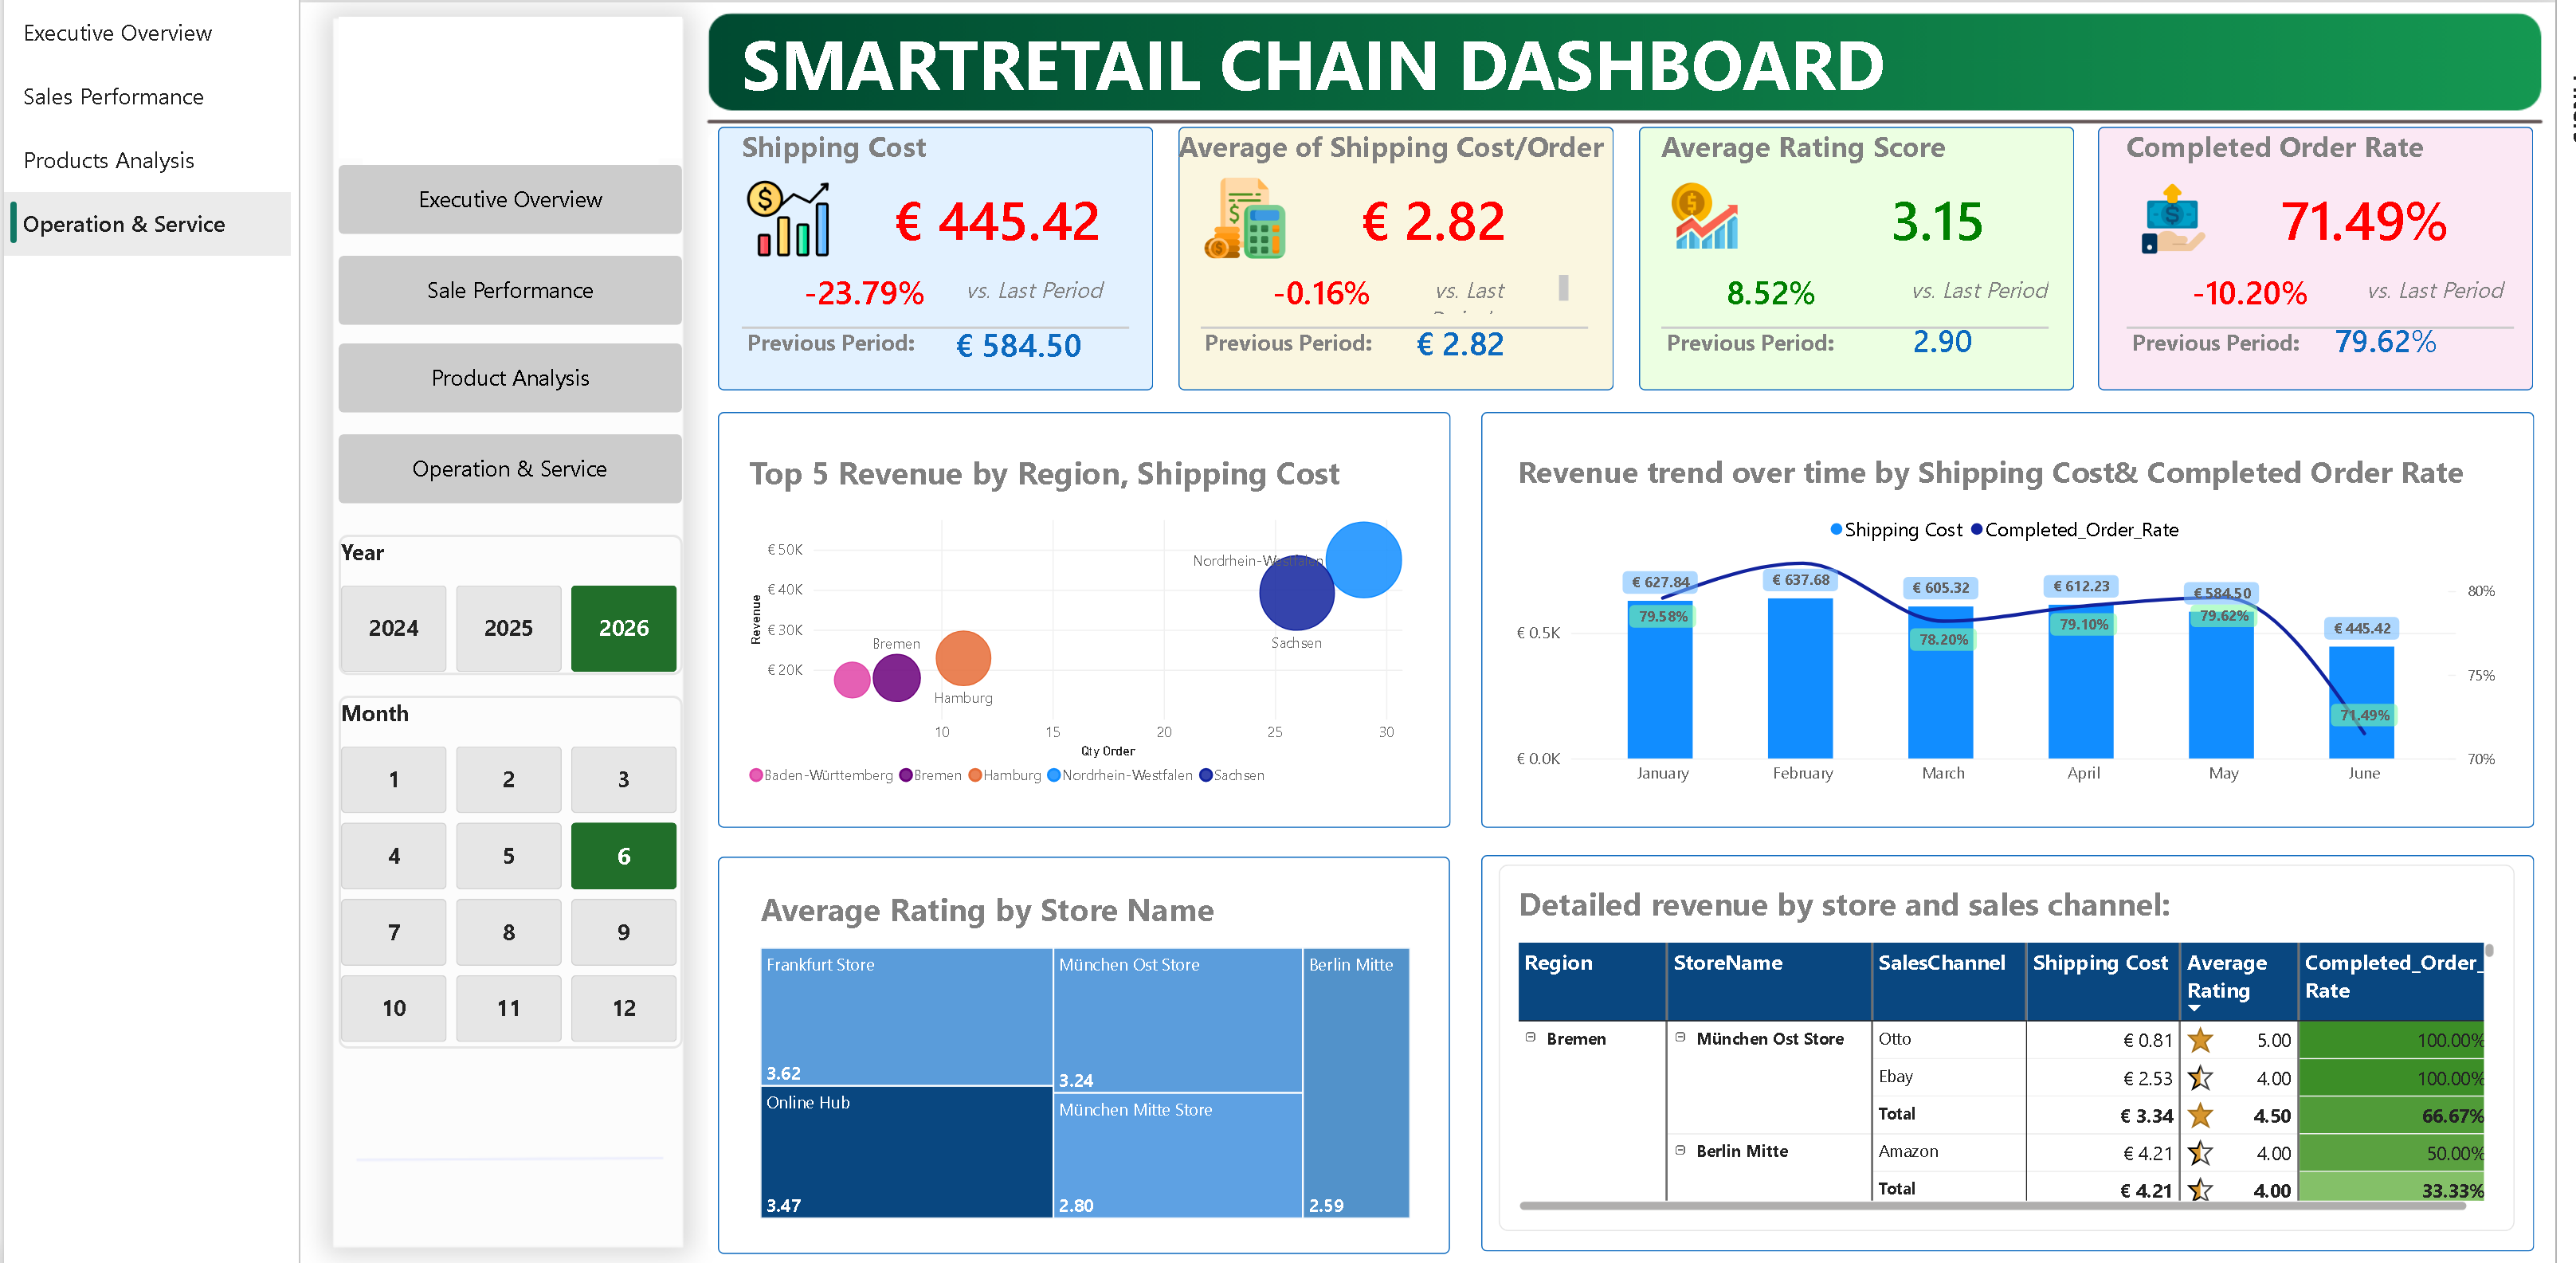

The page's visual inventory and layout, read from the dashboard file:
{"tool":"powerbi","page":{"name":"Operation & Service","canvas":[1920,1080],"ordinal":3},"visuals":[{"type":"shape","box":[355.7,105.5,370.7,224.6],"z":0},{"type":"shape","box":[747.5,105.5,370.7,224.6],"z":1000},{"type":"shape","box":[1139.3,105.5,370.7,224.6],"z":2000},{"type":"shape","box":[1531.2,105.5,370.7,224.6],"z":3000},{"type":"textbox","box":[375.3,12.1,1080.6,78.4],"z":4000},{"type":"textbox","box":[375.3,105.5,226.1,43.7],"z":5000},{"type":"textbox","box":[747.5,105.5,391.8,64.8],"z":6000},{"type":"textbox","box":[1158.9,105.5,313.5,54.3],"z":7000},{"type":"textbox","box":[1555.3,105.5,265.2,54.3],"z":8000},{"type":"image","box":[375.3,149.2,78.4,69.3],"z":9000},{"type":"image","box":[765.6,149.2,78,69],"z":10000},{"type":"image","box":[1158.9,149.2,78,69],"z":11000},{"type":"image","box":[1555.3,149.2,78,69],"z":12000},{"type":"shape","box":[375.3,262.2,330,30.1],"z":13000},{"type":"shape","box":[767.1,262.2,330,30.1],"z":14000},{"type":"shape","box":[1158.9,262.2,330,30.1],"z":15000},{"type":"shape","box":[1555.3,262.2,330,30.1],"z":16000},{"type":"cardVisual","fields":{"Data":["Fact_Sales.Shipping Cost"]},"box":[488.3,149.2,238.1,69.3],"z":17000},{"type":"textbox","box":[375.3,277.3,165.8,34.7],"z":18000},{"type":"textbox","box":[765.6,277.3,167.3,34.7],"z":19000},{"type":"textbox","box":[1158.9,277.3,179.3,34.7],"z":20000},{"type":"textbox","box":[1555.3,277.3,161.3,34.7],"z":21000},{"type":"advancedSlicerVisual","title":"Month ","fields":{"Values":["DimDate.Month Number"]},"box":[33,590.2,292.9,300.6],"z":22000},{"type":"advancedSlicerVisual","fields":{"Values":["DimDate.Year"]},"box":[33,453.1,292.9,119.6],"z":23000},{"type":"cardVisual","fields":{"Data":["Fact_Sales.Previous Period Shipping Cost"]},"box":[541,265.2,164.3,51.2],"z":24000},{"type":"cardVisual","fields":{"Data":["Fact_Sales.% Shipping Coss Variance vs. Pre Period"]},"box":[412.9,200.4,149.2,90.4],"z":25000},{"type":"textbox","box":[562.1,232.1,164.3,33.2],"z":26000},{"type":"cardVisual","fields":{"Data":["Fact_Sales.Average of Shipping Cost per Order"]},"box":[886.2,149.2,232.1,69.3],"z":27000},{"type":"cardVisual","fields":{"Data":["Fact_Sales.Previous Average of Shipping Cost per Order"]},"box":[932.9,265.2,164.3,49.7],"z":28000},{"type":"textbox","box":[960,232.1,119.1,33.2],"z":29000},{"type":"cardVisual","fields":{"Data":["Fact_Sales.% Average of Shipping Cost per Order Variance vs. Pre Period"]},"box":[810.8,200.4,149.2,90.4],"z":30000},{"type":"textbox","box":[1754.2,232.1,131.1,33.2],"z":31000},{"type":"textbox","box":[1366.9,232.1,122.1,30.1],"z":32000},{"type":"cardVisual","fields":{"Data":["Fact_Sales.Average Rating"]},"box":[1338.3,149.2,171.8,69.3],"z":33000},{"type":"cardVisual","fields":{"Data":["Fact_Sales.Previous Average Rating"]},"box":[1326.2,262.2,145.8,50.3],"z":34000},{"type":"cardVisual","fields":{"Data":["Fact_Sales.% Average Rating Variance vs. Pre Period"]},"box":[1198.1,200.4,149.2,90.4],"z":35000},{"type":"cardVisual","fields":{"Data":["Fact_Sales.Completed_Order_Rate"]},"box":[1669.8,149.2,232.1,69.3],"z":36000},{"type":"cardVisual","fields":{"Data":["Fact_Sales.Previous Period Compeleted Order Rate"]},"box":[1716.5,262.2,145.8,50.3],"z":37000},{"type":"cardVisual","fields":{"Data":["Fact_Sales.% Completed Order Rate Variance vs. Pre Period"]},"box":[1594.5,200.4,149.2,90.4],"z":38000},{"type":"shape","box":[355.7,348.1,623.9,354.2],"z":39000},{"type":"scatterChart","title":"Top 5 Revenue by Region, Shipping Cost","fields":{"Series":["Dim_Customers.Region"],"Size":["Fact_Sales.Shipping Cost"],"X":["Fact_Sales.Qty Order"],"Y":["Fact_Sales.Revenue"]},"box":[366.2,367.7,593.8,319.5],"z":40000},{"type":"shape","box":[1005.2,348.1,896.7,354.2],"z":41000},{"type":"lineClusteredColumnComboChart","title":"Revenue trend over time by Shipping Cost& Completed Order Rate","fields":{"Category":["DimDate.Month Name"],"Y":["Fact_Sales.Shipping Cost"],"Y2":["Fact_Sales.Completed_Order_Rate"]},"box":[1020,367.1,865.7,320],"z":42000},{"type":"shape","box":[355,726.7,623.3,338.3],"z":43000},{"type":"treemap","title":"Average Rating by Store Name","fields":{"Group":["Dim_Store.StoreName"],"Values":["Fact_Sales.Average Rating"]},"box":[375.7,740,585,311.7],"z":44000},{"type":"shape","box":[1005.2,726.4,896.7,337.6],"z":45000},{"type":"pivotTable","title":"Detailed revenue by store and sales channel:","fields":{"Rows":["Dim_Customers.Region","Dim_Store.StoreName","Dim_Channel.SalesChannel"],"Values":["Fact_Sales.Shipping Cost","Fact_Sales.Average Rating","Fact_Sales.Completed_Order_Rate"]},"box":[1020.8,734.3,865.1,312],"z":46000},{"type":"actionButton","box":[33.2,138.6,292.4,58.8],"z":47000},{"type":"actionButton","box":[33.2,215.5,292.4,58.8],"z":48000},{"type":"actionButton","box":[33.2,290.9,292.4,58.8],"z":49000},{"type":"actionButton","box":[33.2,367.7,292.4,58.8],"z":50000},{"type":"textbox","box":[33.2,12.1,292.4,120.6],"z":51000}]}

Visuals, with their boxes on the page's 1920x1080 design canvas (x1, y1, x2, y2). These are canvas units, not pixel positions in the 2576x1263 screenshot, which may show the page scaled, cropped or inside an application window:
shape: 356,106,726,330
shape: 748,106,1118,330
shape: 1139,106,1510,330
shape: 1531,106,1902,330
textbox: 375,12,1456,90
textbox: 375,106,601,149
textbox: 748,106,1139,170
textbox: 1159,106,1472,160
textbox: 1555,106,1820,160
image: 375,149,454,218
image: 766,149,844,218
image: 1159,149,1237,218
image: 1555,149,1633,218
shape: 375,262,705,292
shape: 767,262,1097,292
shape: 1159,262,1489,292
shape: 1555,262,1885,292
cardVisual - Fact_Sales.Shipping Cost: 488,149,726,218
textbox: 375,277,541,312
textbox: 766,277,933,312
textbox: 1159,277,1338,312
textbox: 1555,277,1717,312
"Month " advancedSlicerVisual: 33,590,326,891
advancedSlicerVisual - DimDate.Year: 33,453,326,573
cardVisual - Fact_Sales.Previous Period Shipping Cost: 541,265,705,316
cardVisual - Fact_Sales.% Shipping Coss Variance vs. Pre Period: 413,200,562,291
textbox: 562,232,726,265
cardVisual - Fact_Sales.Average of Shipping Cost per Order: 886,149,1118,218
cardVisual - Fact_Sales.Previous Average of Shipping Cost per Order: 933,265,1097,315
textbox: 960,232,1079,265
cardVisual - Fact_Sales.% Average of Shipping Cost per Order Variance vs. Pre Period: 811,200,960,291
textbox: 1754,232,1885,265
textbox: 1367,232,1489,262
cardVisual - Fact_Sales.Average Rating: 1338,149,1510,218
cardVisual - Fact_Sales.Previous Average Rating: 1326,262,1472,312
cardVisual - Fact_Sales.% Average Rating Variance vs. Pre Period: 1198,200,1347,291
cardVisual - Fact_Sales.Completed_Order_Rate: 1670,149,1902,218
cardVisual - Fact_Sales.Previous Period Compeleted Order Rate: 1716,262,1862,312
cardVisual - Fact_Sales.% Completed Order Rate Variance vs. Pre Period: 1594,200,1744,291
shape: 356,348,980,702
"Top 5 Revenue by Region, Shipping Cost" scatterChart: 366,368,960,687
shape: 1005,348,1902,702
"Revenue trend over time by Shipping Cost& Completed Order Rate" lineClusteredColumnComboChart: 1020,367,1886,687
shape: 355,727,978,1065
"Average Rating by Store Name" treemap: 376,740,961,1052
shape: 1005,726,1902,1064
"Detailed revenue by store and sales channel:" pivotTable: 1021,734,1886,1046
actionButton: 33,139,326,197
actionButton: 33,216,326,274
actionButton: 33,291,326,350
actionButton: 33,368,326,426
textbox: 33,12,326,133
